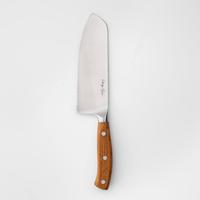knife: (74, 9, 121, 188)
